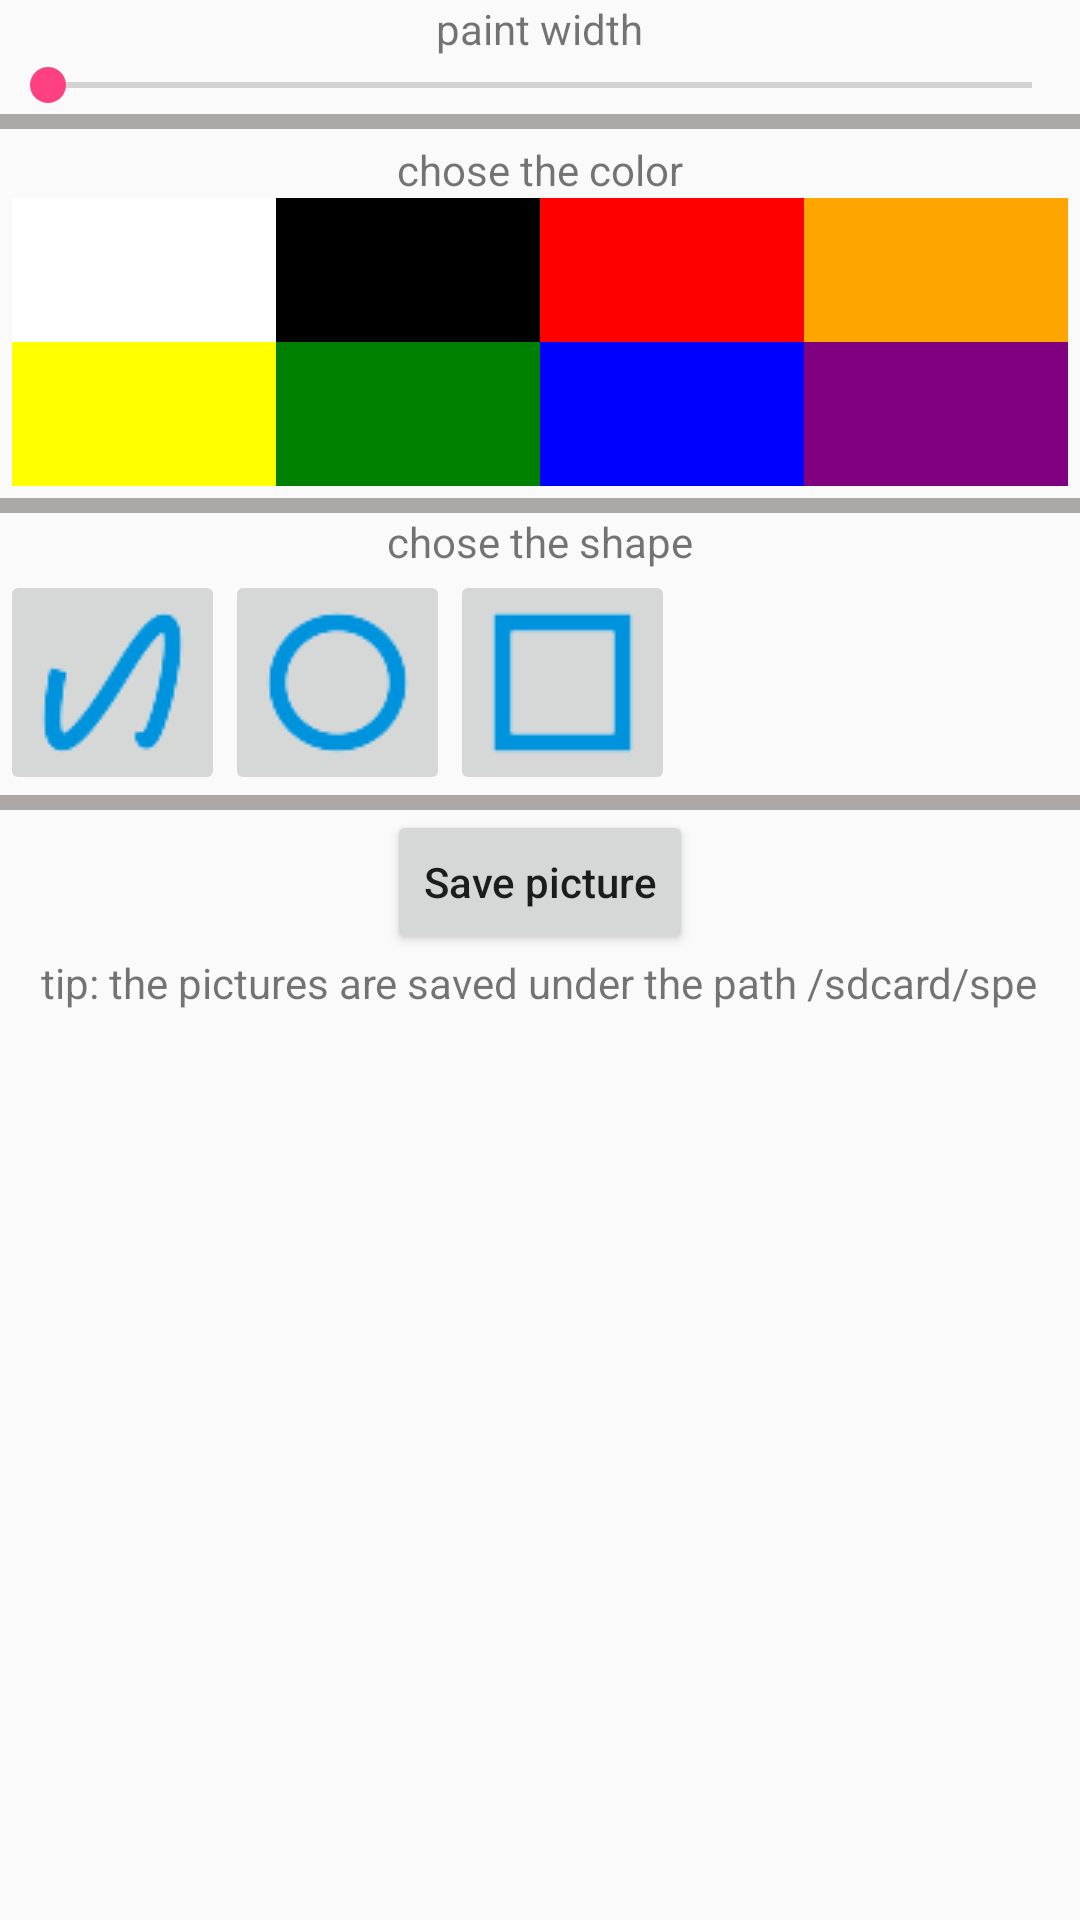

Icon click points for this 1080×1920 phone screenshot, format point (x, y):
freehand: point (112, 682)
oval: point (337, 682)
rect: point (562, 682)
